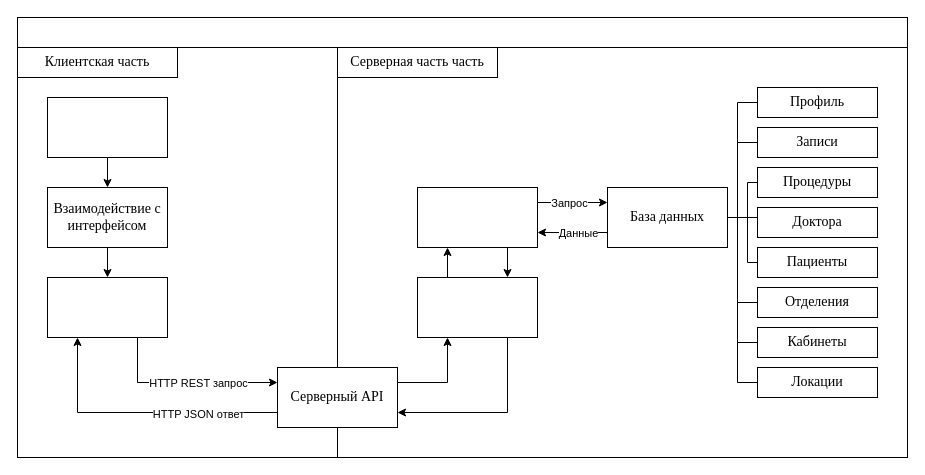
Some shapes in this 925 by 475 pixel diagram are drawn without their labels. Each missing label, with the centre of its shape:
"Бизнес-логика" belongs at (477,307).
"Информационная система" belongs at (462,32).
"Клиентское SPA приложение" belongs at (107,307).
"Модуль взаимодействия с базой данных" belongs at (477,217).
"Пользователь" belongs at (107,127).
